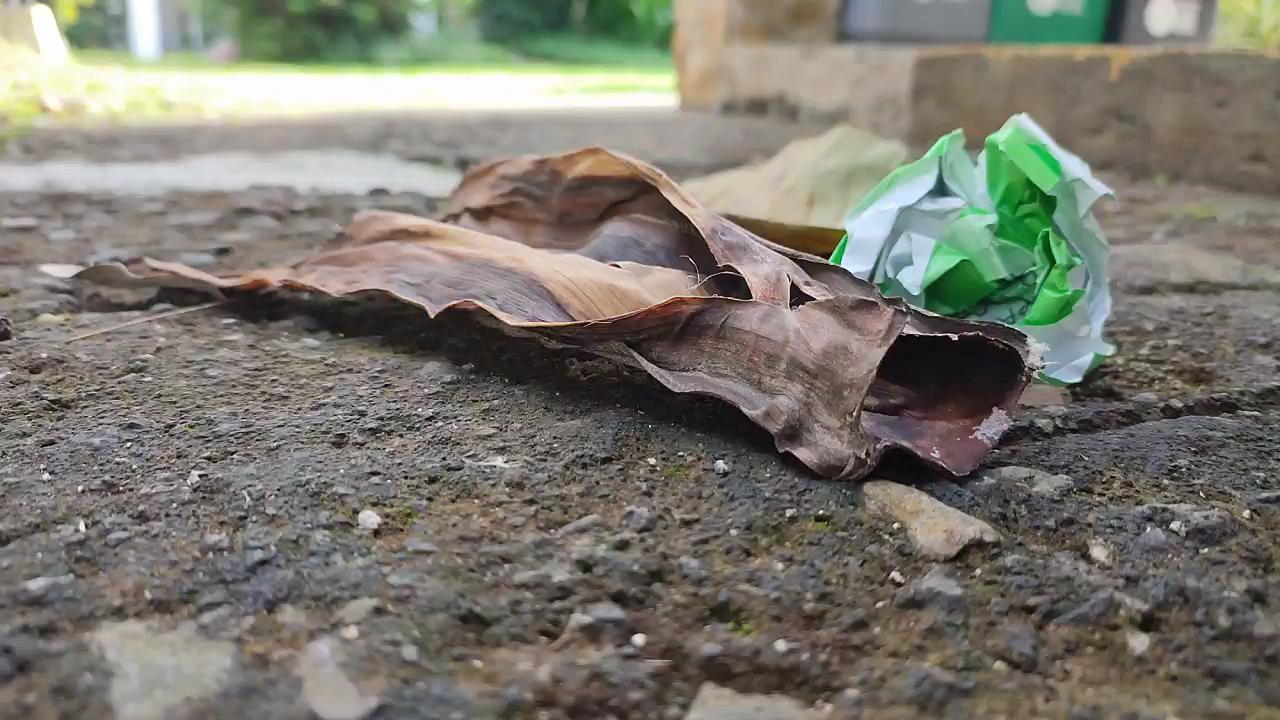Paper: (825, 87, 1119, 388)
